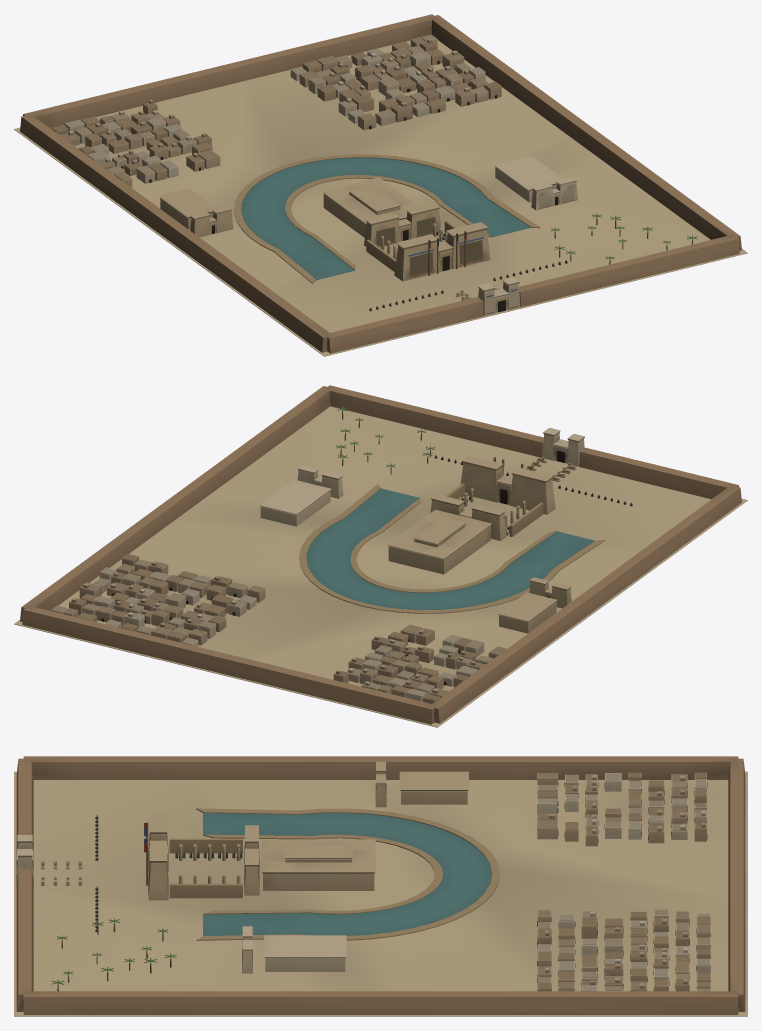
The model's file is mut-precinct.glb.
3 views of the same model, one above another, from view 1: azimuth 30°, elevation 25°; view 2: azimuth 150°, elevation 25°; view 3: azimuth 270°, elevation 25° (orthographic). The views are drawn at different scales.
Visible parts, largest first — view 1: p0_lake, p3_houses, p1_temple; view 2: p0_lake, p3_houses, p1_temple; view 3: p0_lake, p3_houses, p1_temple, p2_courts.
Boxes of the visible parts, x1,y1,x2,y2 form: p0_lake: (14, 14, 747, 356); p3_houses: (51, 35, 697, 311); p1_temple: (159, 155, 577, 315); p0_lake: (14, 385, 747, 727); p3_houses: (51, 406, 632, 703); p1_temple: (259, 427, 584, 633); p0_lake: (14, 756, 747, 1016); p3_houses: (41, 772, 710, 991); p1_temple: (16, 761, 468, 973); p2_courts: (179, 844, 240, 883).
Bounding box in the file's own units: 260 × 21.23 × 330.
